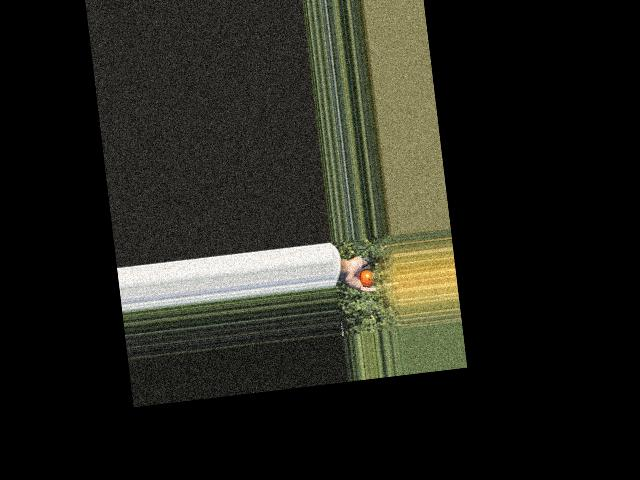tomato: (359, 270, 375, 288)
